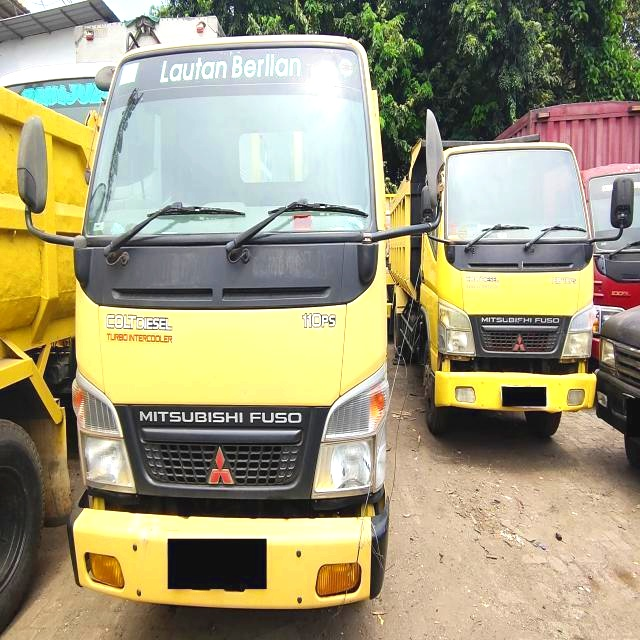truck: (13, 31, 455, 631), (380, 122, 640, 470)
